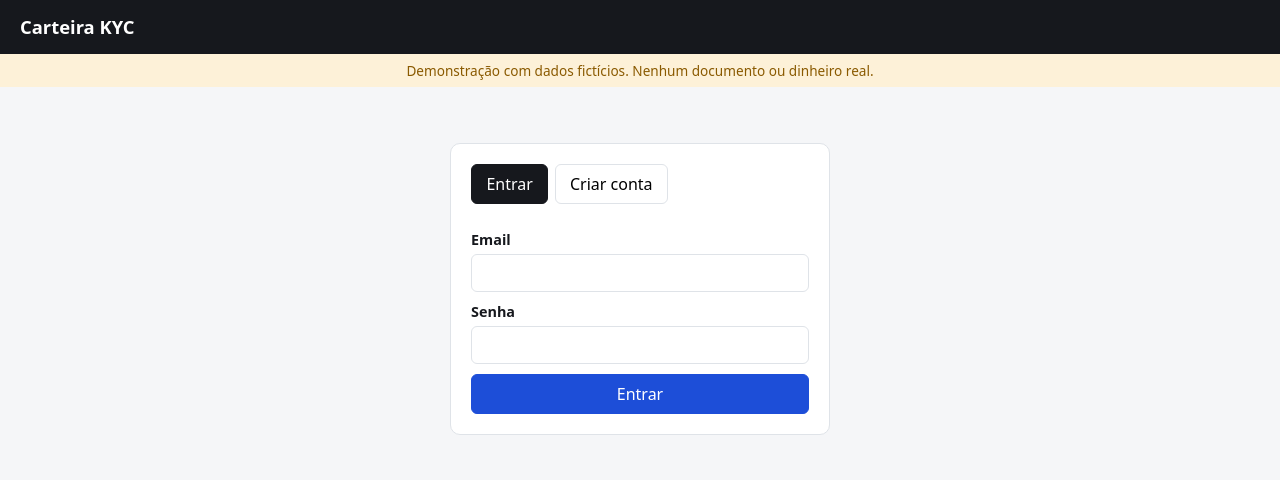
login › senha errada mostra mensagem e não guarda token
Type "x@demo.local" into the field labelled "Email" at [640, 273], box [471, 254, 809, 292]
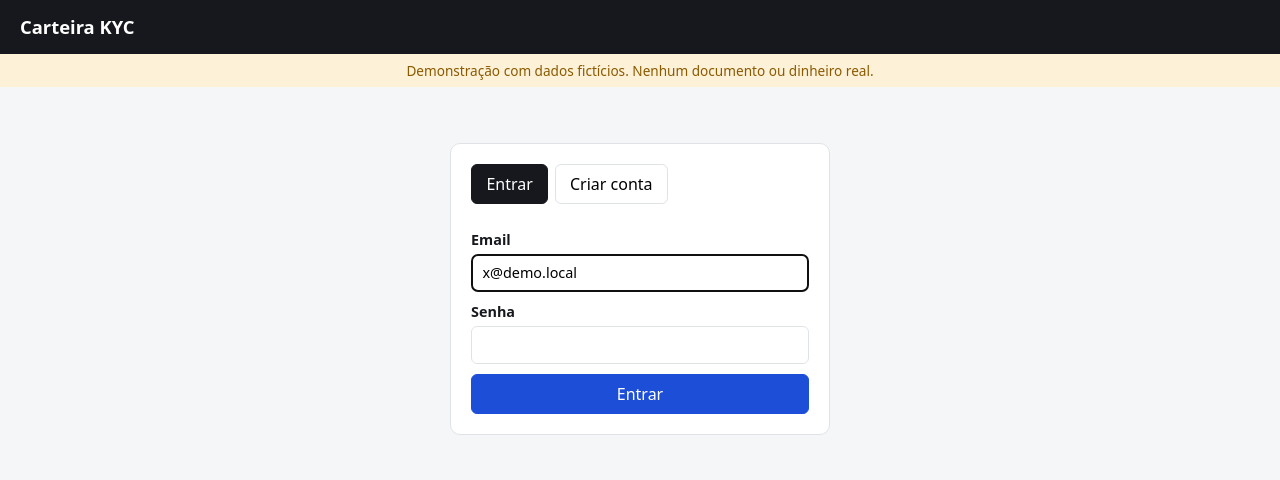
Type "errada" into the password field labelled "Senha" at [640, 345], box [471, 326, 809, 364]
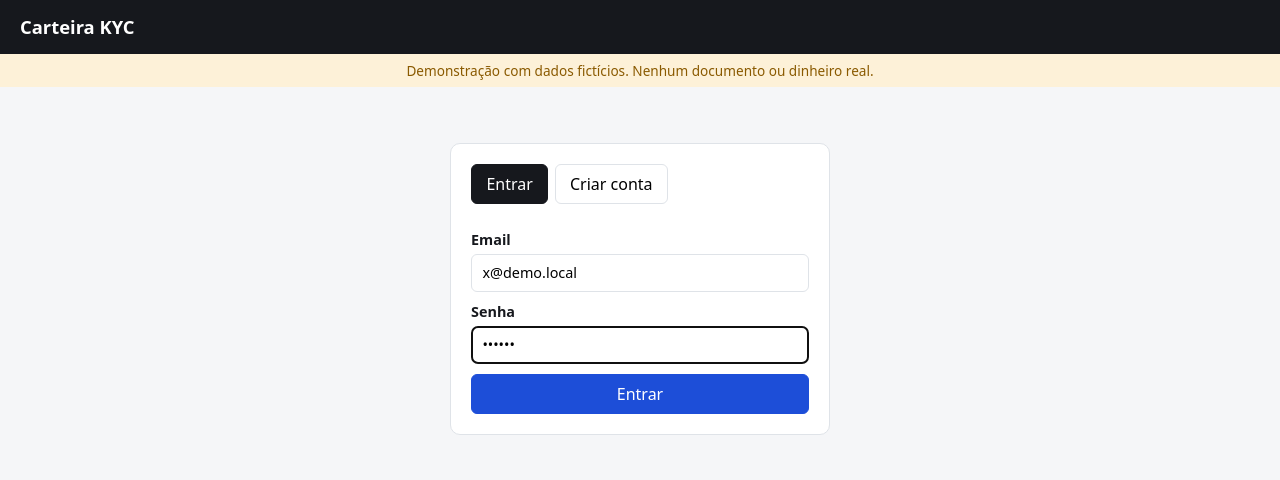
Click the button "Entrar" at [640, 394], box [471, 374, 809, 414]
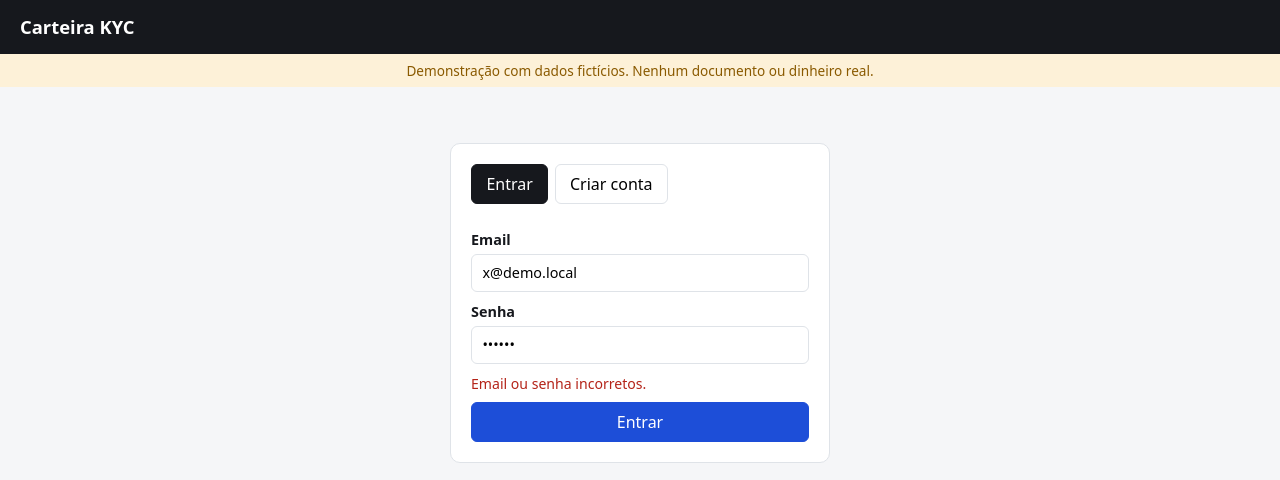
Expected: the message reads "Email ou senha incorretos.", [471, 374, 646, 393]
